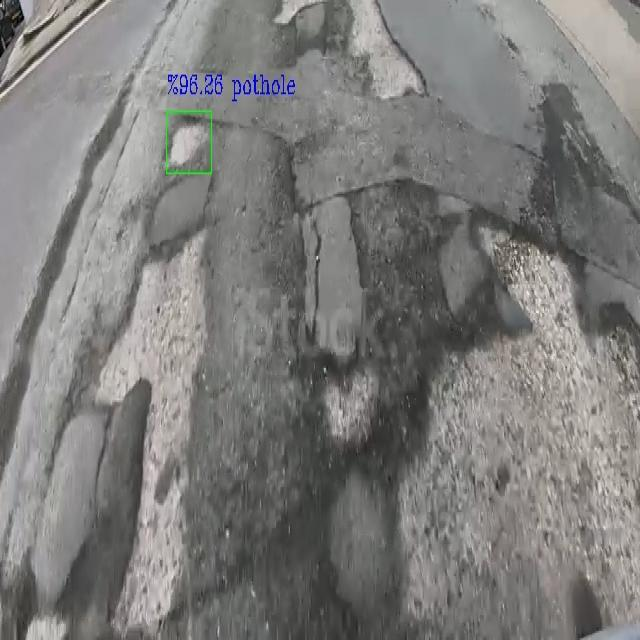pothole: (170, 116, 210, 170)
